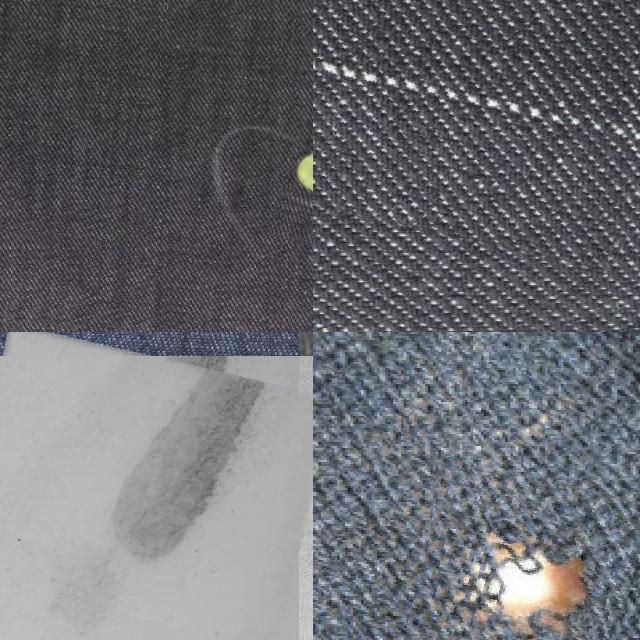Thread_other: (0, 338, 313, 640)
other: (414, 465, 640, 640)
stains: (313, 0, 640, 259), (272, 190, 313, 251)
